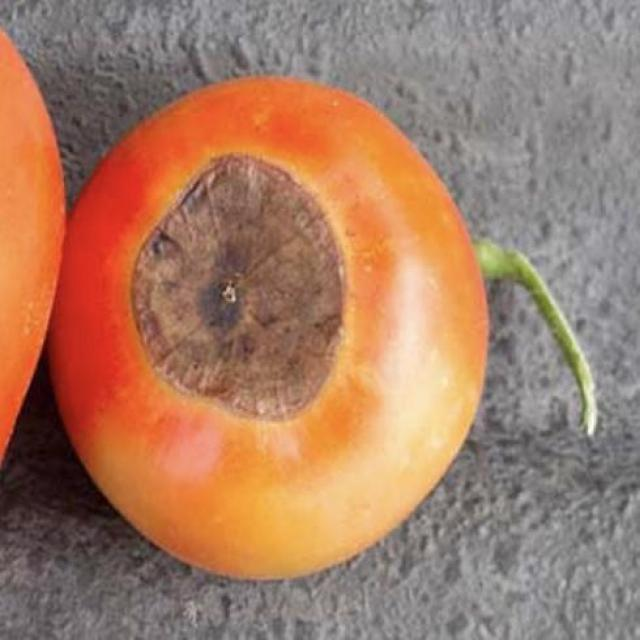Blossom End Rot Fruit: (82, 104, 241, 285)
